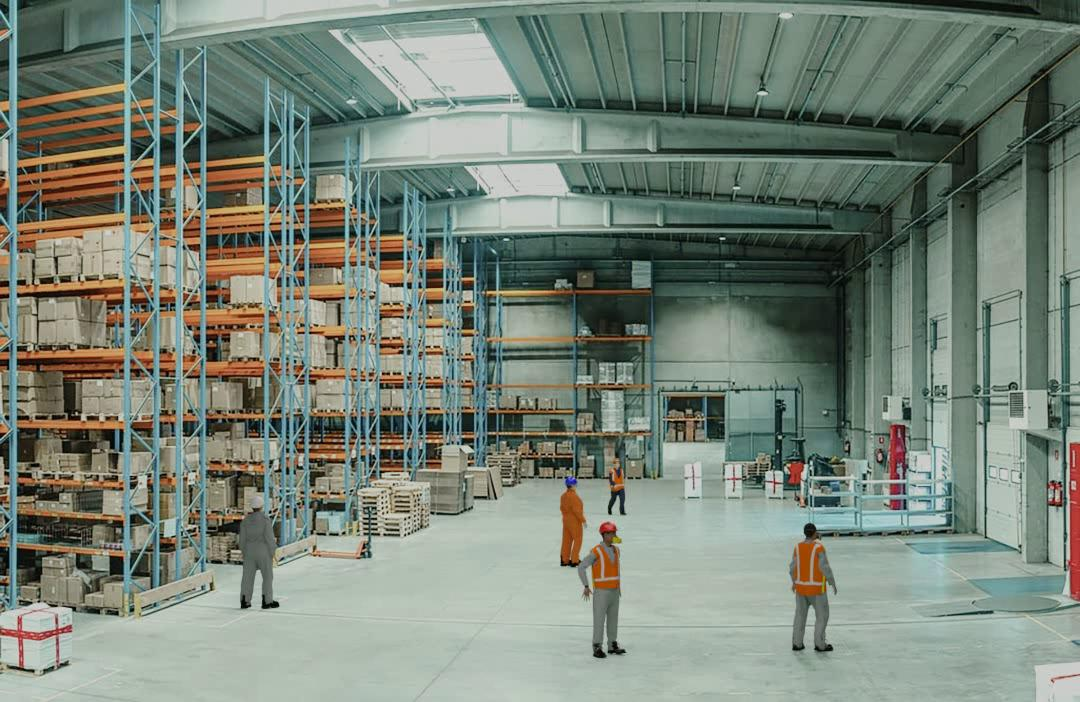Helmet: (598, 519, 617, 533), (565, 475, 579, 488), (250, 498, 263, 507), (613, 458, 622, 464)
Jacket: (792, 542, 827, 593), (591, 545, 622, 585), (611, 469, 624, 490)
Shoes: (815, 638, 833, 652), (608, 641, 626, 654), (592, 643, 606, 658), (791, 638, 807, 650), (262, 599, 280, 608), (571, 560, 588, 567), (240, 599, 252, 608), (560, 559, 571, 566), (608, 506, 613, 514), (620, 510, 627, 515)
